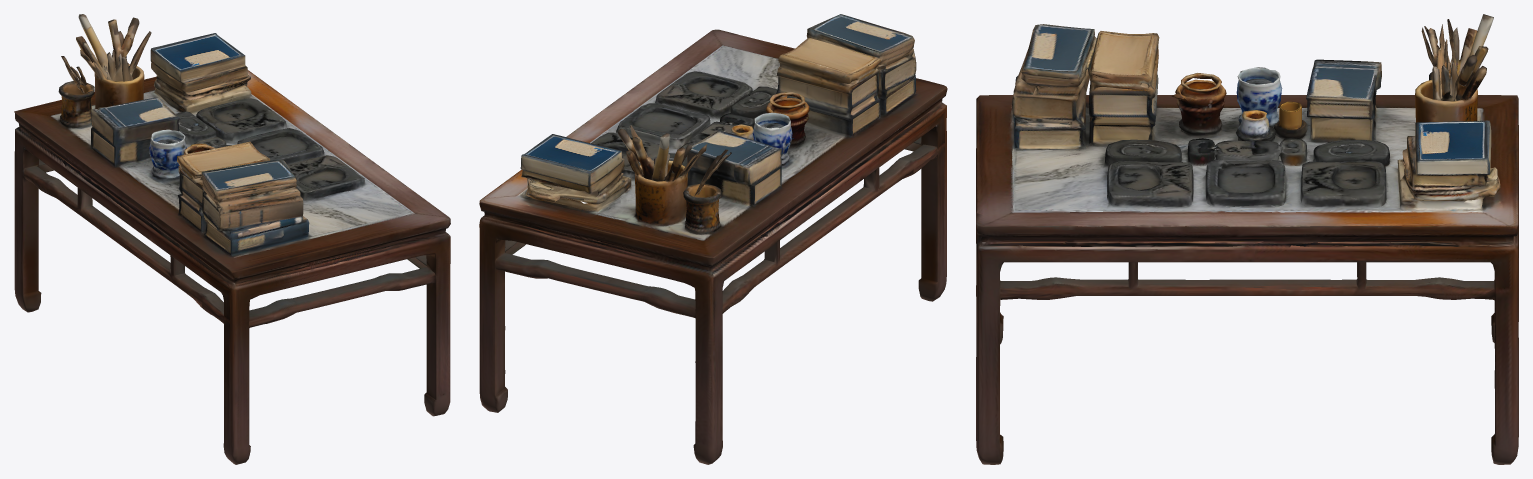
File: f_dashian.glb
3 renders of one model, left to right at view 1: azimuth 30°, elevation 25°; view 2: azimuth 150°, elevation 25°; view 3: azimuth 270°, elevation 25°, orthographic. The views are drawn at different scales.
Parts seen in each view (by area): view 1: tripo_node_71a182d6-d0fb-4d14-96f1-417fd2031283; view 2: tripo_node_71a182d6-d0fb-4d14-96f1-417fd2031283; view 3: tripo_node_71a182d6-d0fb-4d14-96f1-417fd2031283.
Boxes of the visible parts, left/top/right/bottom form: tripo_node_71a182d6-d0fb-4d14-96f1-417fd2031283: left=14, top=14, right=450, bottom=464; tripo_node_71a182d6-d0fb-4d14-96f1-417fd2031283: left=479, top=14, right=947, bottom=464; tripo_node_71a182d6-d0fb-4d14-96f1-417fd2031283: left=976, top=14, right=1518, bottom=464.
Size of the model in its own units: 0.5746 by 0.7239 by 0.9999.
1 material, 1 textured.
